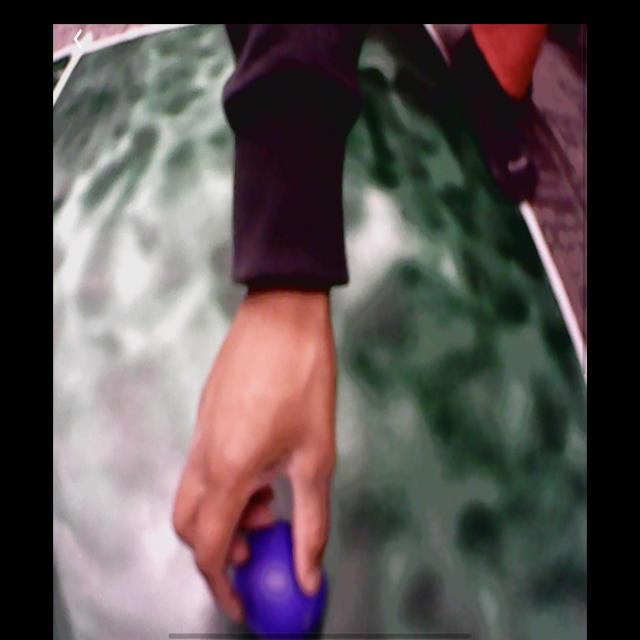ball: (229, 516, 329, 640)
